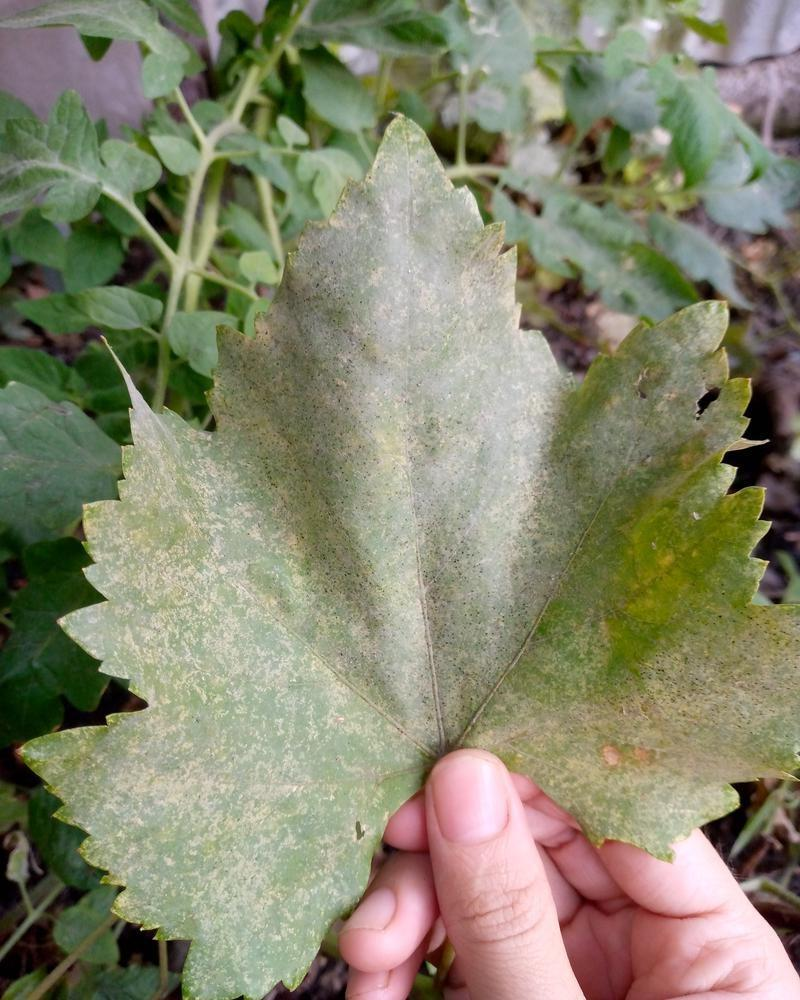Powdery-Mildew: (365, 300, 575, 618), (58, 712, 303, 956), (551, 610, 799, 828), (71, 412, 258, 666), (285, 518, 439, 745), (314, 168, 481, 364), (621, 301, 751, 451)
